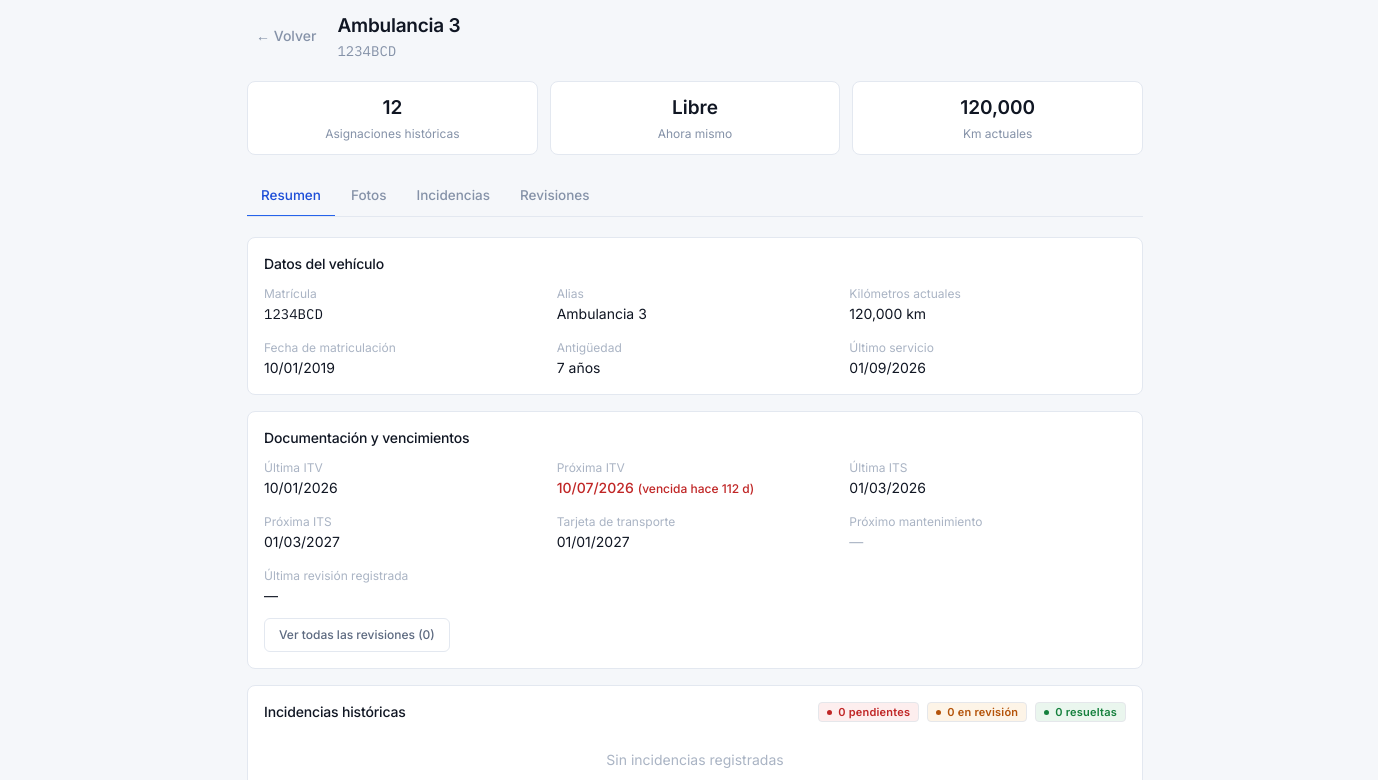
Test case: VehicleHistory · hora de cada foto › pone día, hora española y momento en cada miniatura
The width and height of the screenshot is (1378, 780).
Check: the heading "Ambulancia 3" is shown, box [337,12,460,40]
What coordinates should you click on to do the following:
click the button "Fotos"
I would click on:
 (369, 196)
Its box is [337,175,400,217].
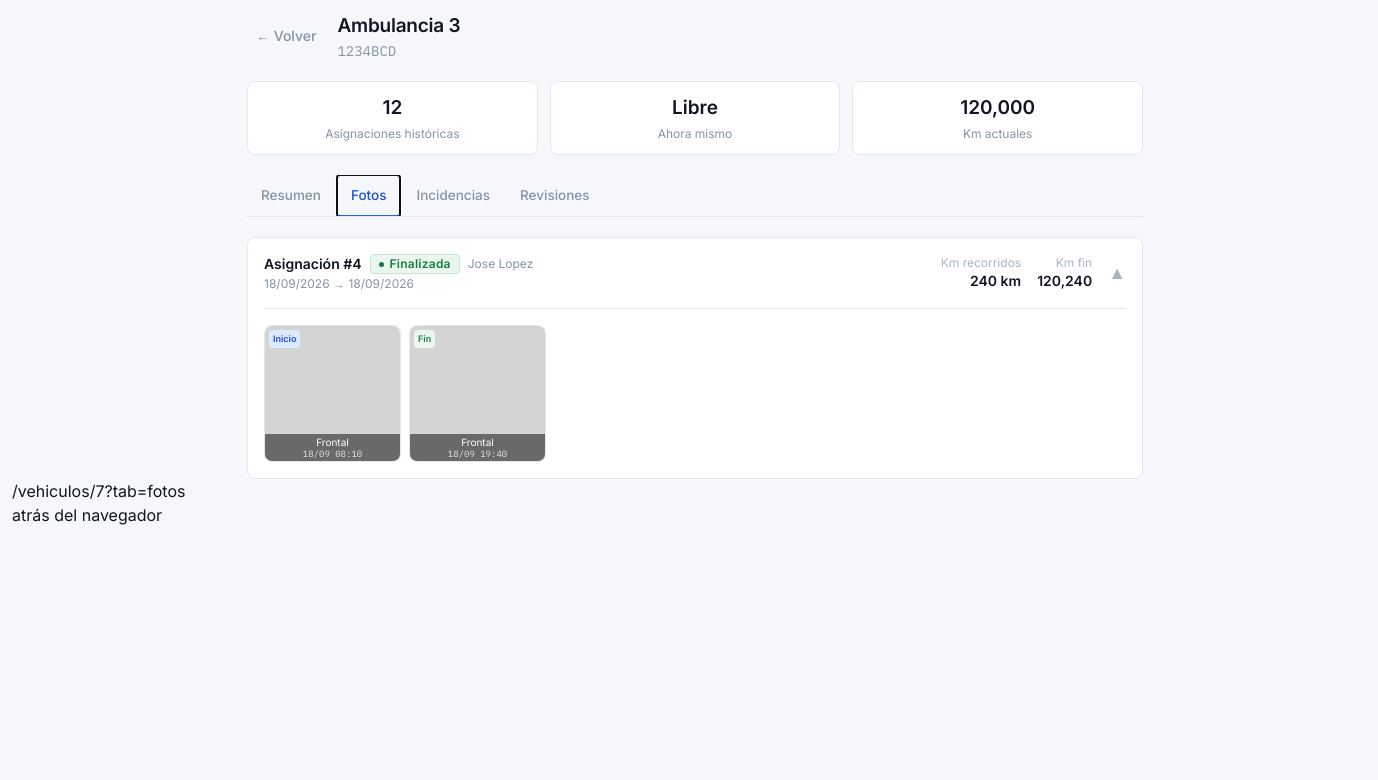
Check: the text "18/09 08:10" is shown, box [303,448,362,459]
Check: the text "18/09 19:40" is shown, box [448,448,507,459]
Check: the text "Inicio" is shown, box [269,330,300,348]
